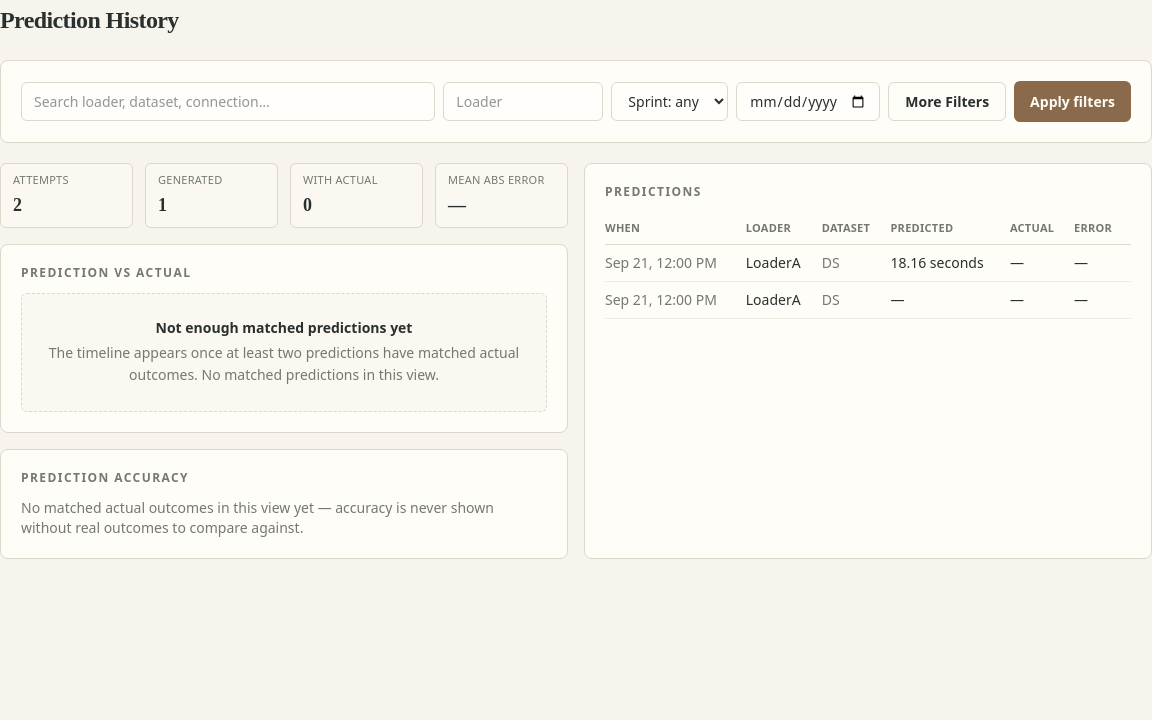
Prediction History › shows the live accuracy counts, filters chips and the event detail drawer
Expected: the element with test id "history-table" is shown, [584,163,1151,559]
Expected: the element with test id "history-summary" shows "Attempts", [13,172,69,187]
Click the 1st row with test id "history-row" at [868, 263], box [605,244,1131,281]
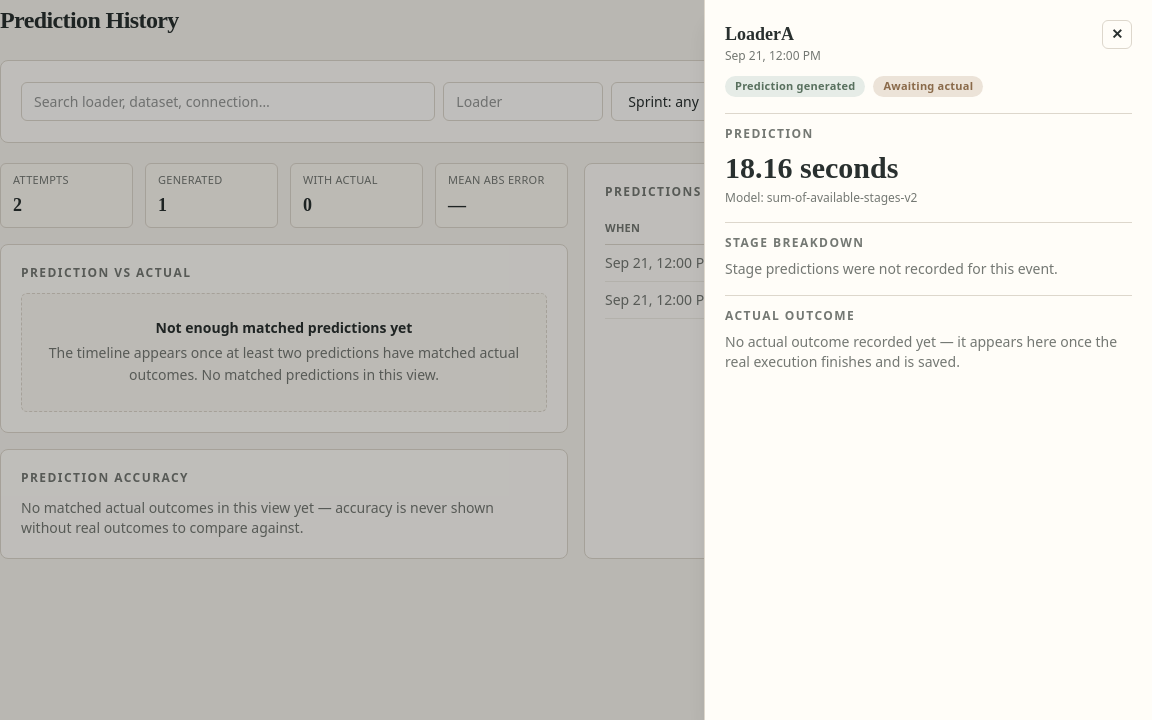
Now the dialog with test id "event-detail" is shown, box [704,0,1151,719]
Now the text "Model: sum-of-available-stages-v2" is shown, box [725,188,917,206]
Click the button named "close details" at [1117, 34], box [1102,20,1132,49]
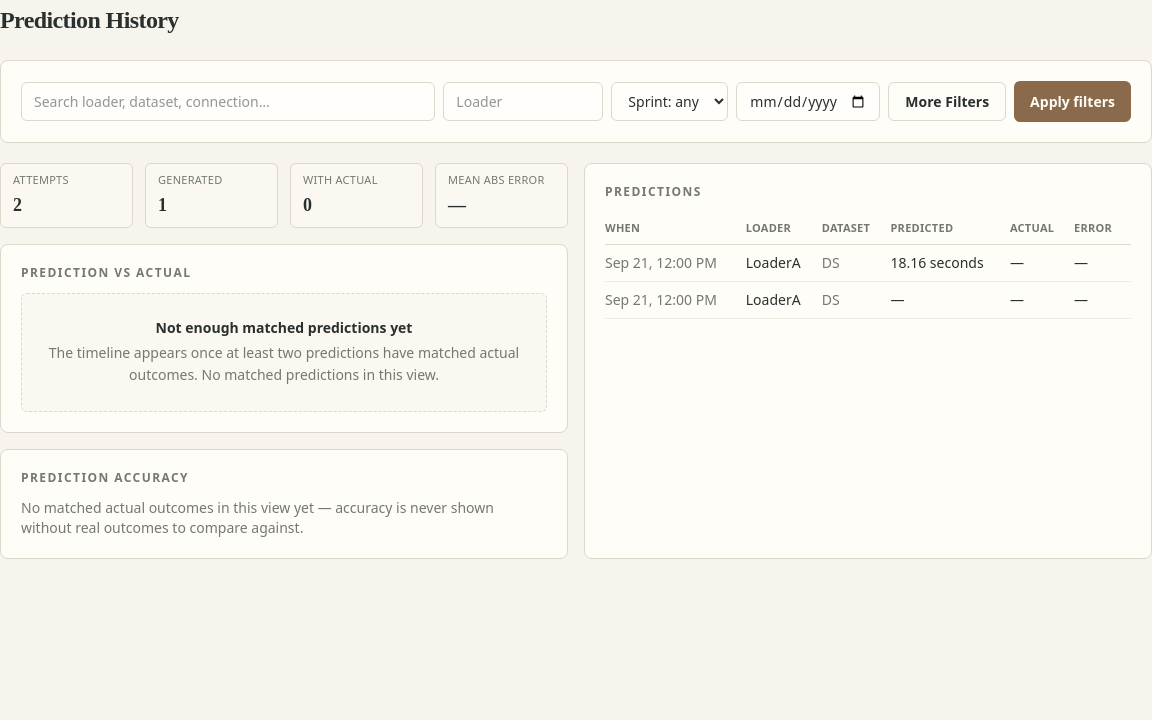
Now the dialog with test id "event-detail" is gone
# the unavailable event's drawer shows the user-friendly reason
Click the 2nd row with test id "history-row" at [868, 300], box [605,281,1131,318]
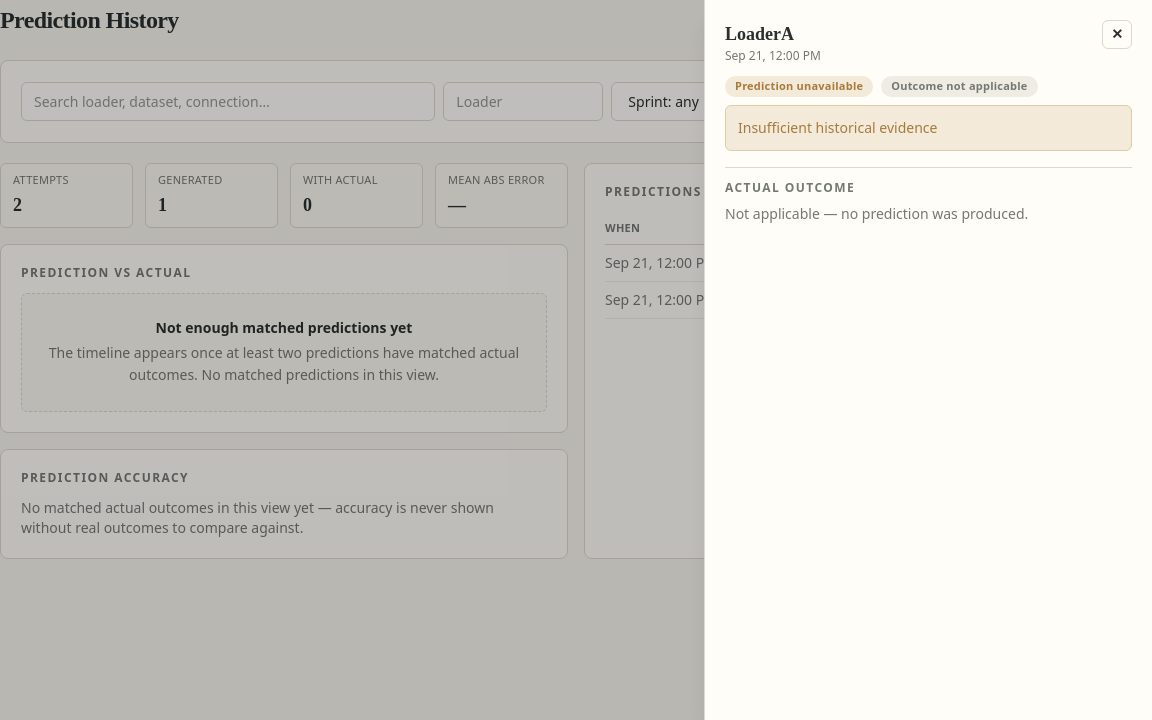
Now the text with test id "detail-unavailable-reason" reads "Insufficient historical evidence", box [738,118,937,136]
